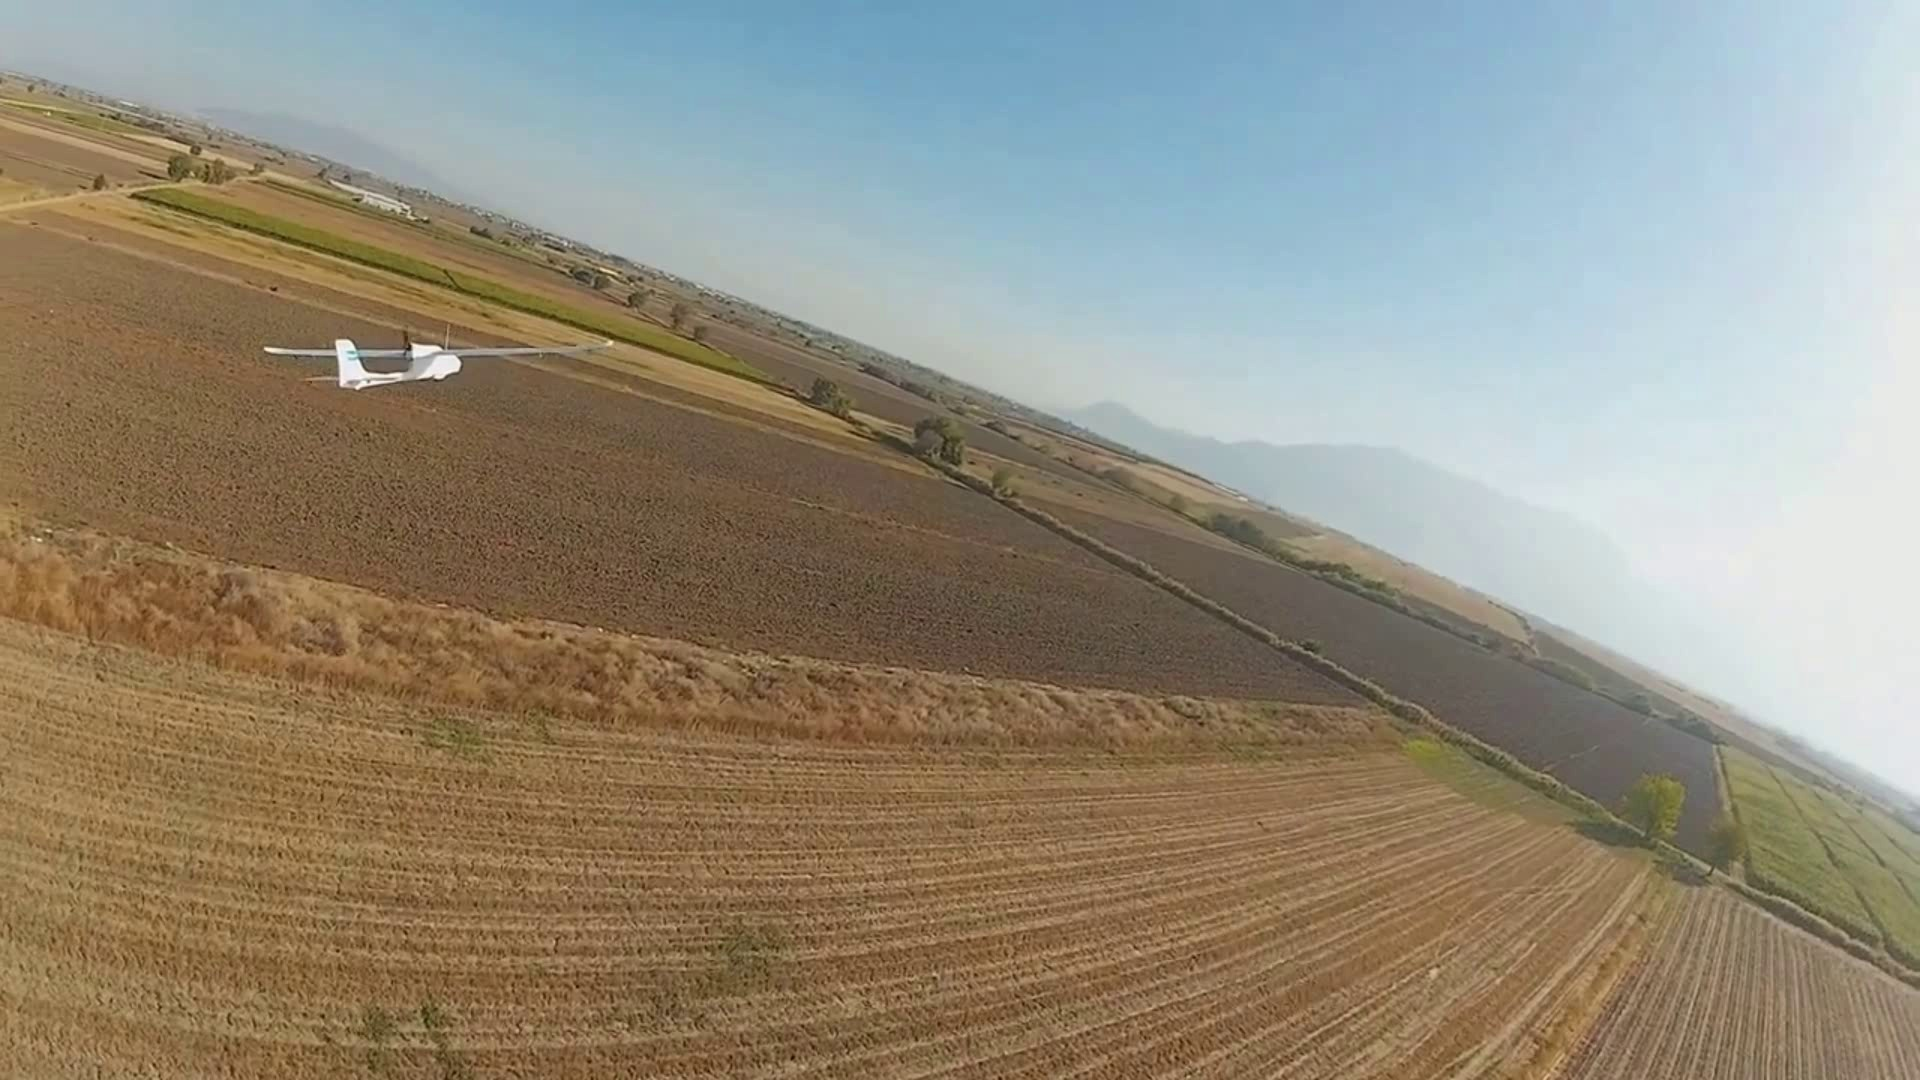airplane: (262, 335, 460, 386)
